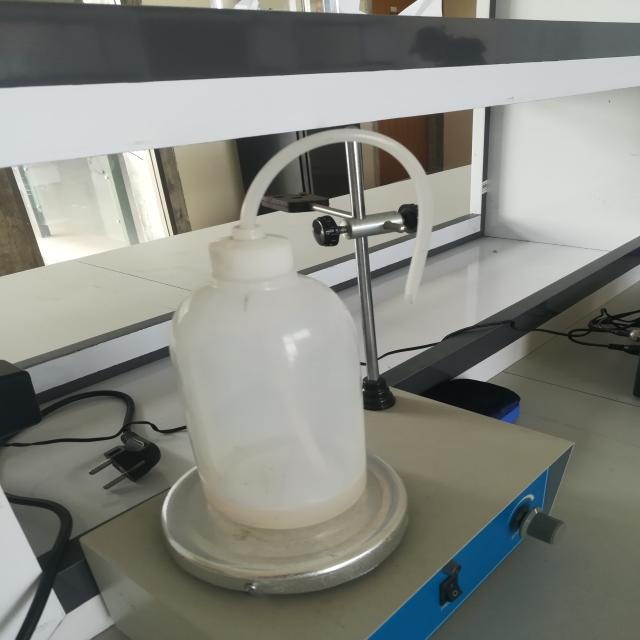Wash_Bottle: (131, 99, 516, 562)
